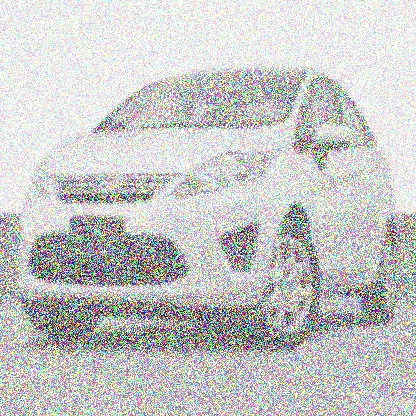Vehicle: (17, 64, 402, 356)
